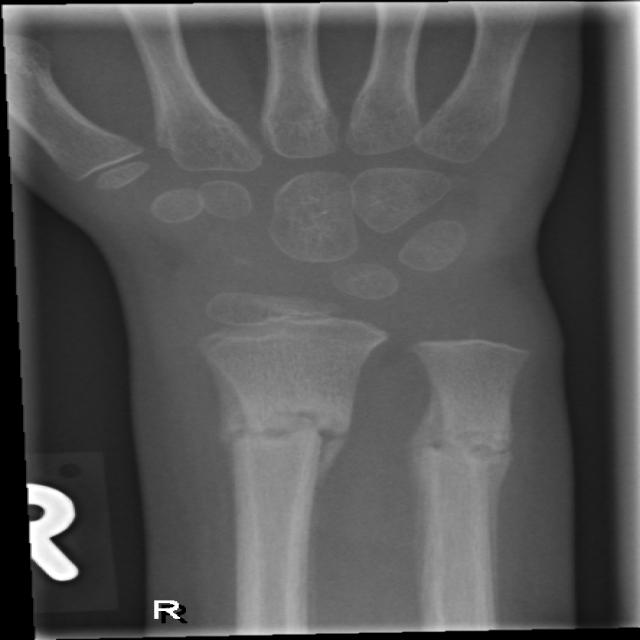radius fracture: (200, 369, 370, 578)
ulna fracture: (358, 376, 560, 582)
